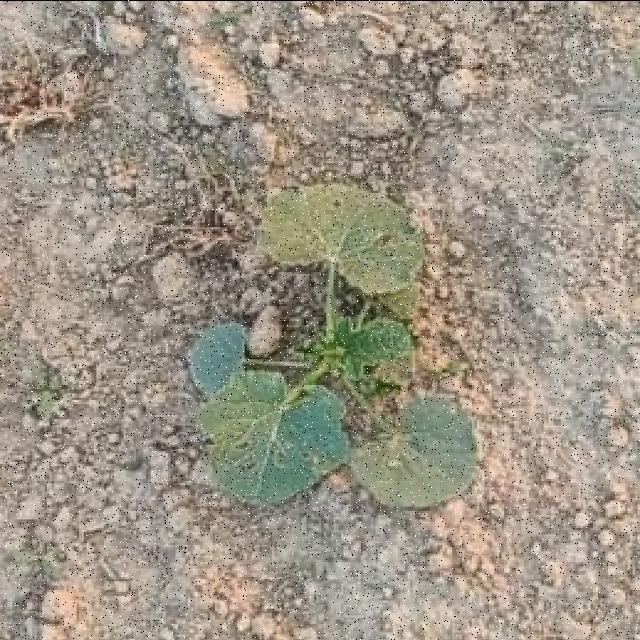plant: (188, 182, 476, 506)
